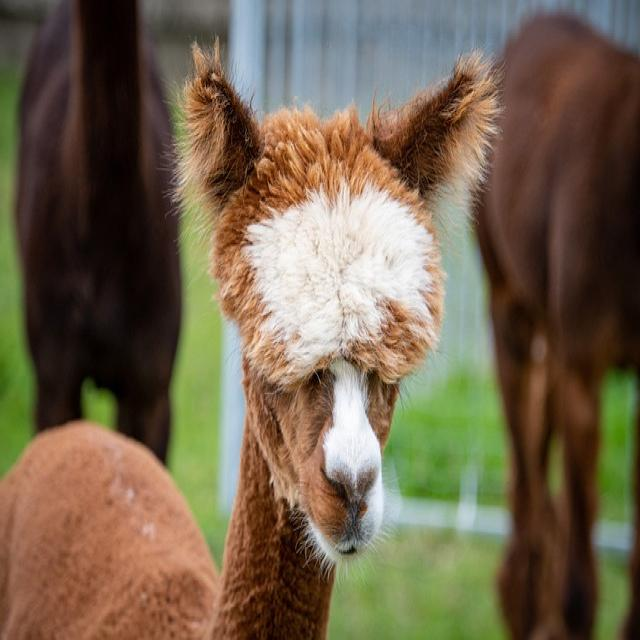Herbivorous: (178, 45, 504, 640)
